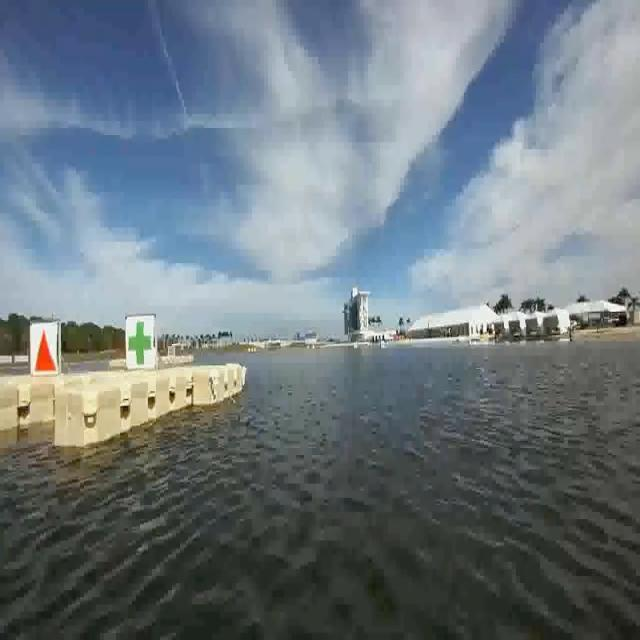blue-cross: (124, 314, 156, 369)
red-dot: (30, 326, 58, 374)
